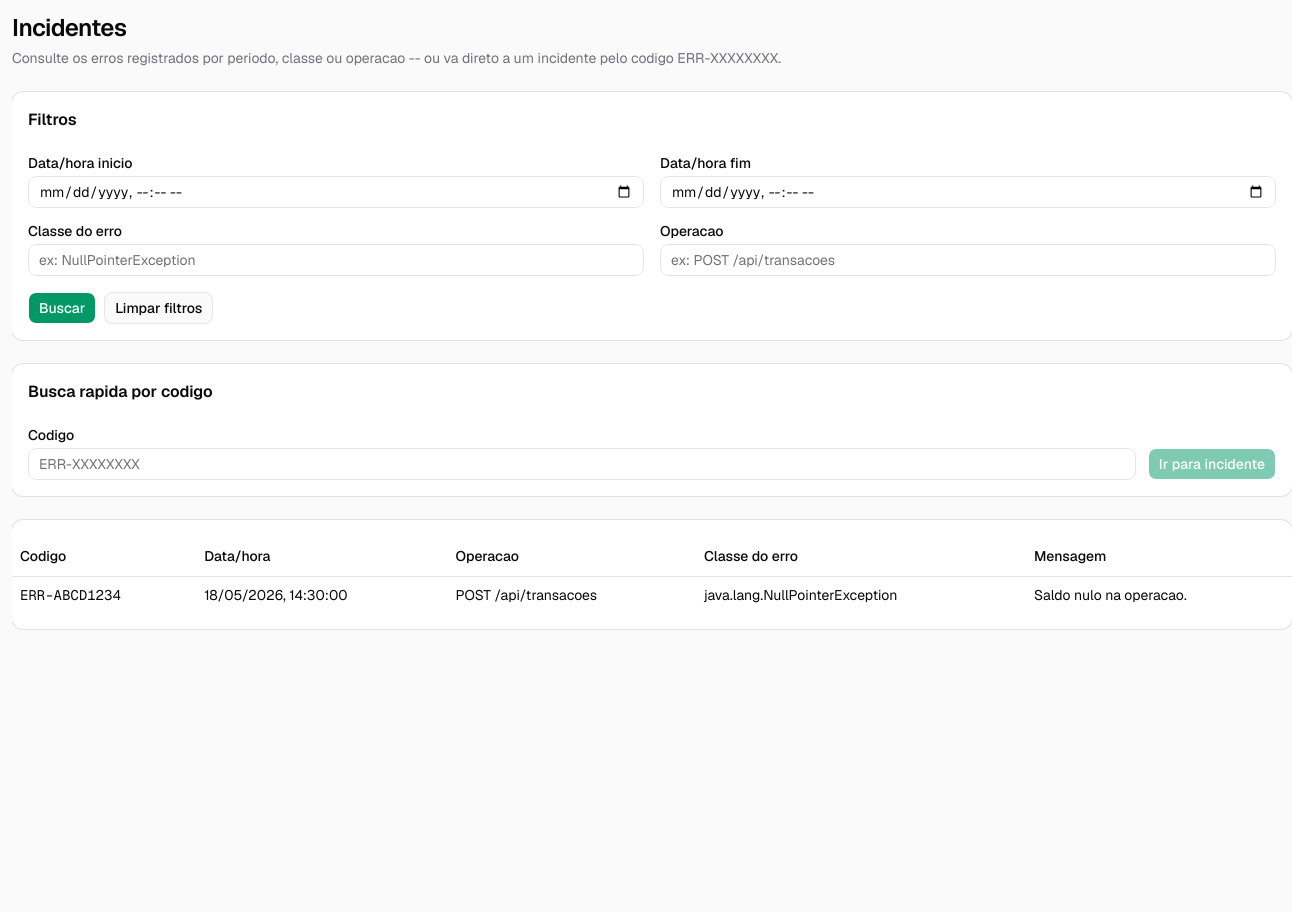
Test case: IncidentesPage › C6: clicar numa linha da tabela expande o stack trace
Expected: the text "at com.financas.App.run" is not shown
Click the text "ERR-ABCD1234" at (104, 594), box x1=12 y1=576 x2=196 y2=612
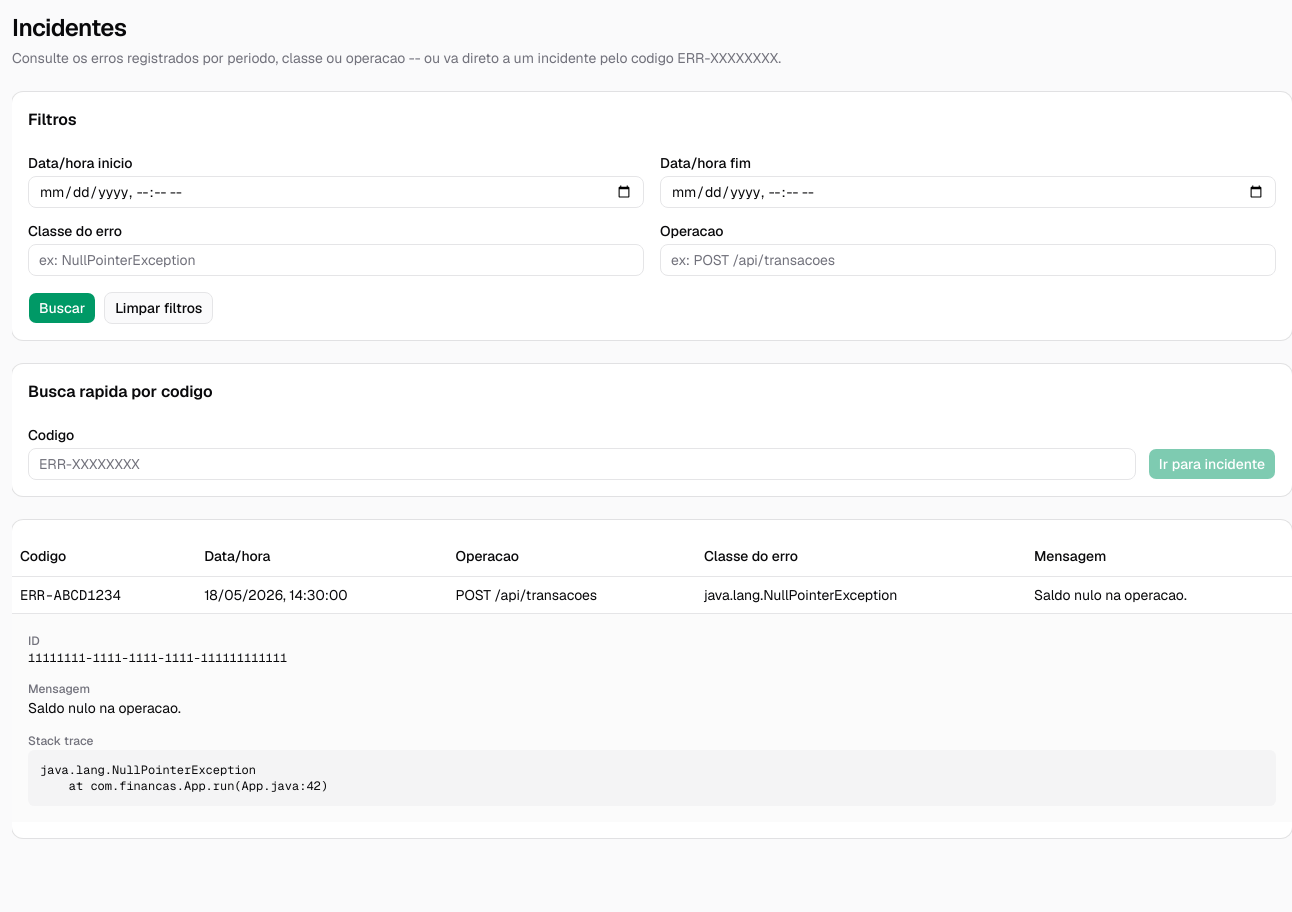
Now the text "at com.financas.App.run" is shown, box x1=40 y1=762 x2=328 y2=794
